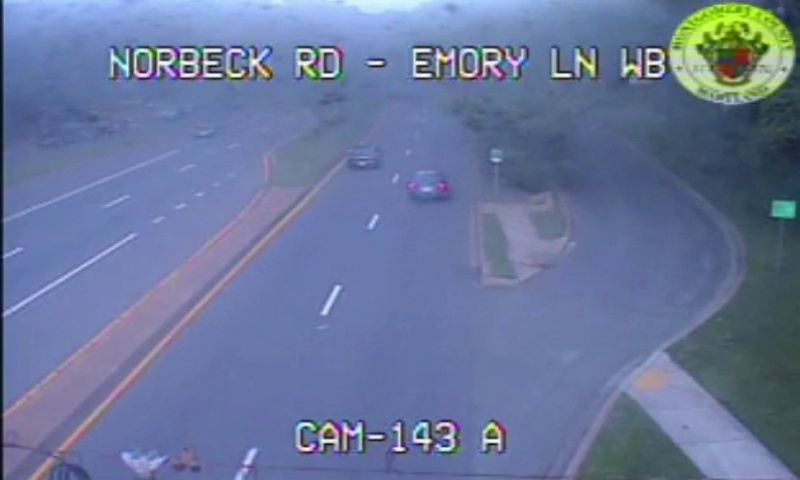car: (405, 170, 447, 198), (346, 146, 378, 168)
